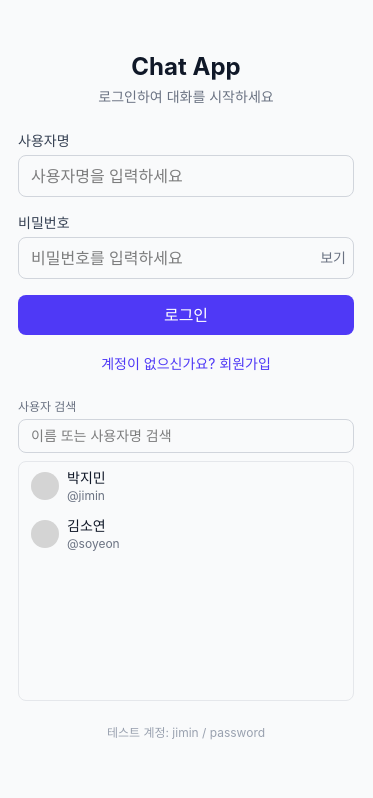
Scenario: LoginPage › resets form when switching between login and register mode
# 로그인 모드에서 입력
Type "test" into the field labelled "사용자명".
click(186, 176); type("test")  # box [18,155,354,197]
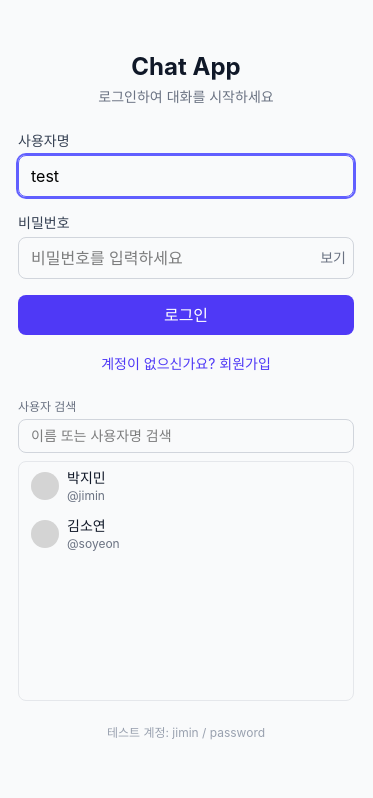
# 회원가입 모드로 전환
Click the button "계정이 없으신가요? 회원가입".
click(186, 364)  # box [101,354,271,374]
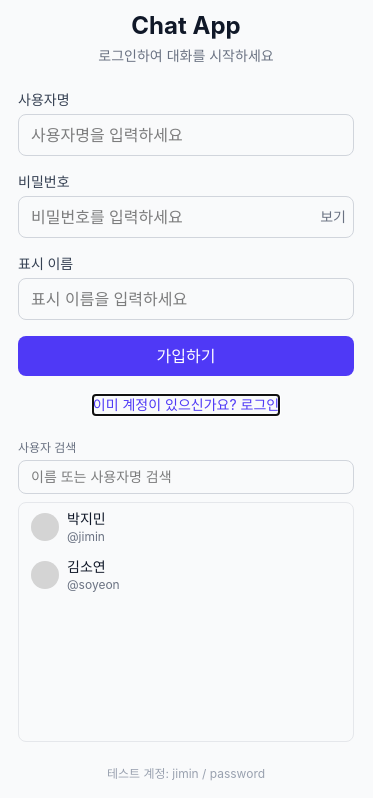
Check: the field labelled "사용자명" is empty, box [18,114,354,156]
Check: the field labelled "표시 이름" is shown, box [18,278,354,320]
